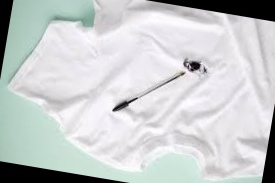ink: (186, 62, 200, 72)
